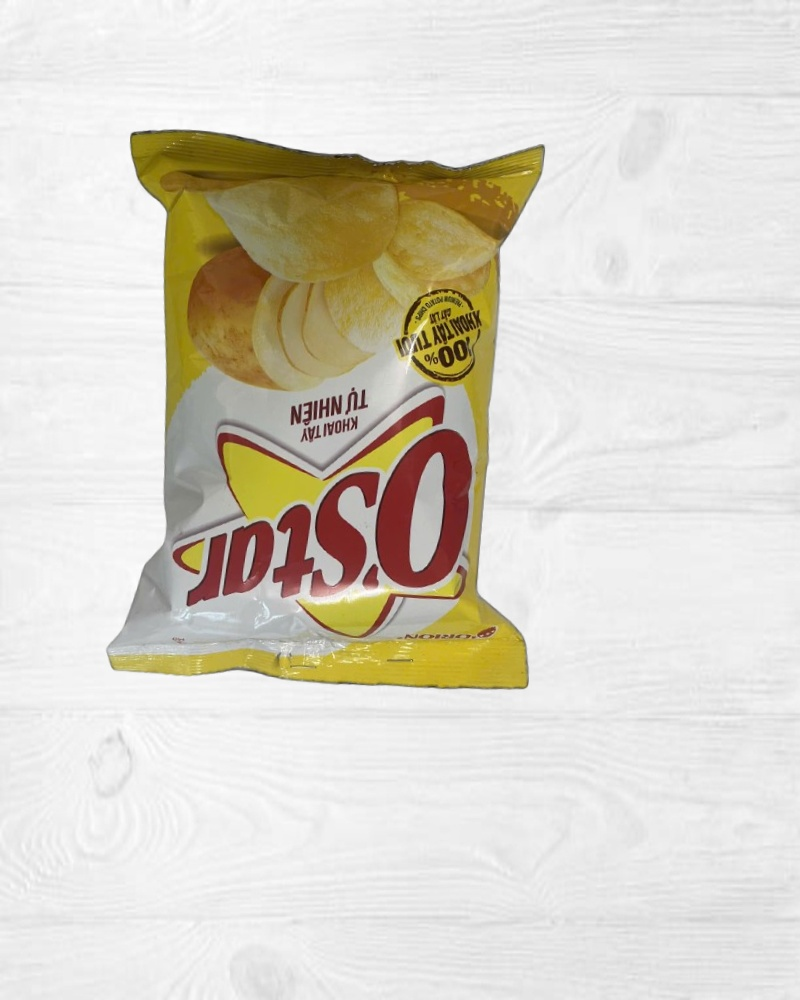Snack cua: (90, 116, 573, 700)
